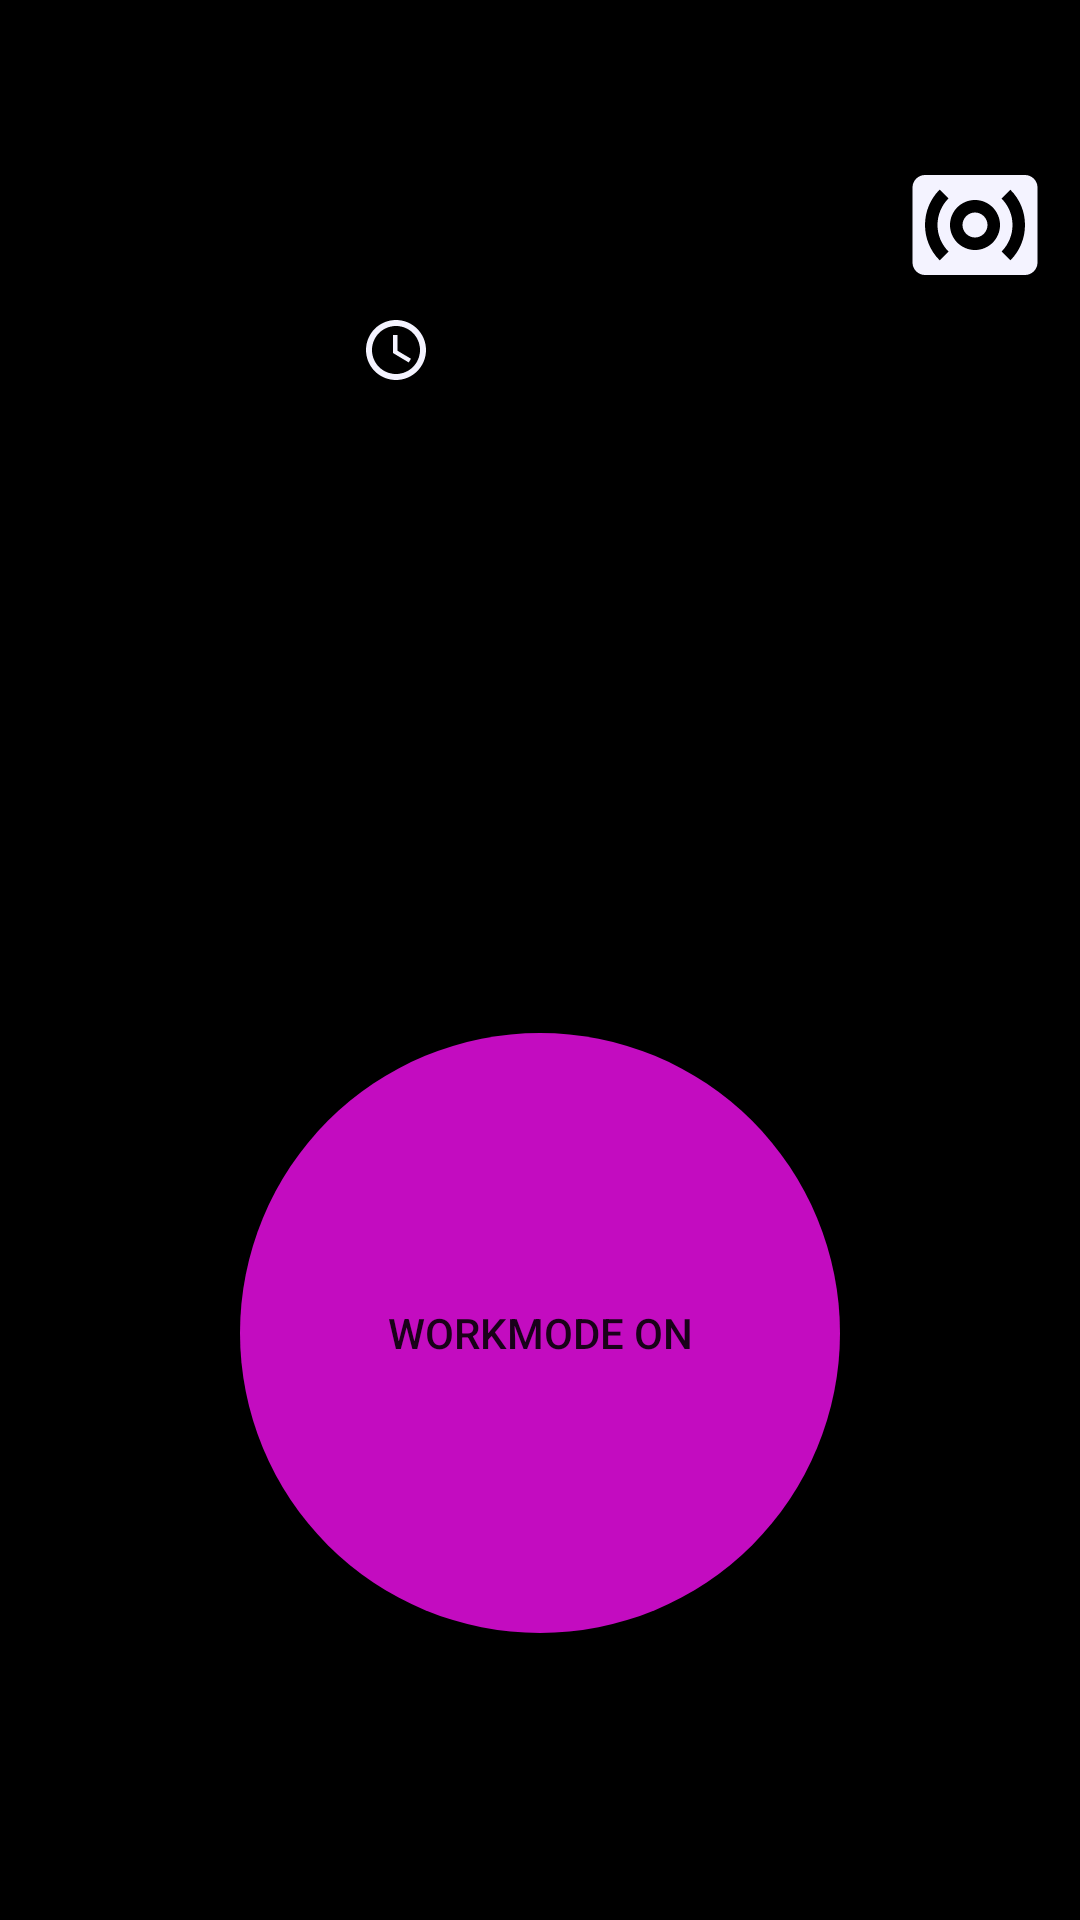

Where to tap for icons on this 1080w x 1920h app screen, as [x,y]:
sounding: [975,225]
